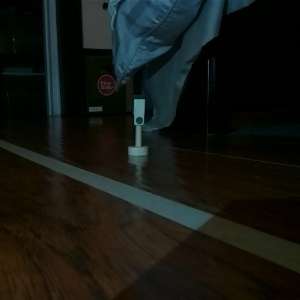traffic light green: (126, 92, 149, 158)
